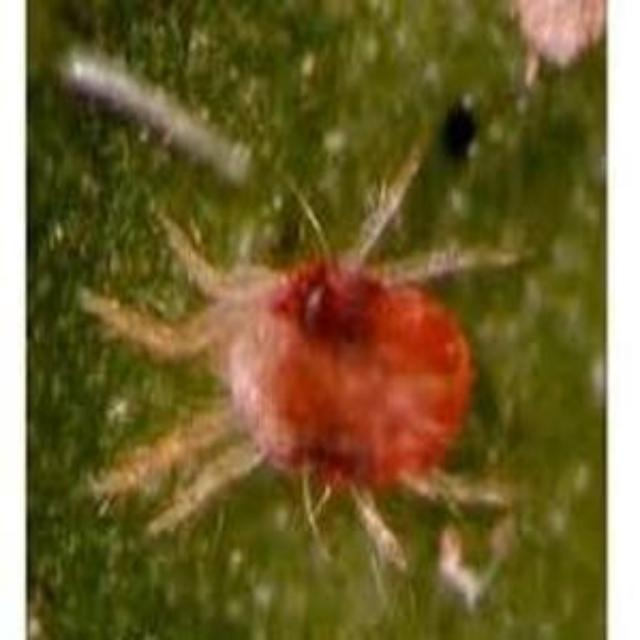spider mite: (110, 155, 528, 582)
